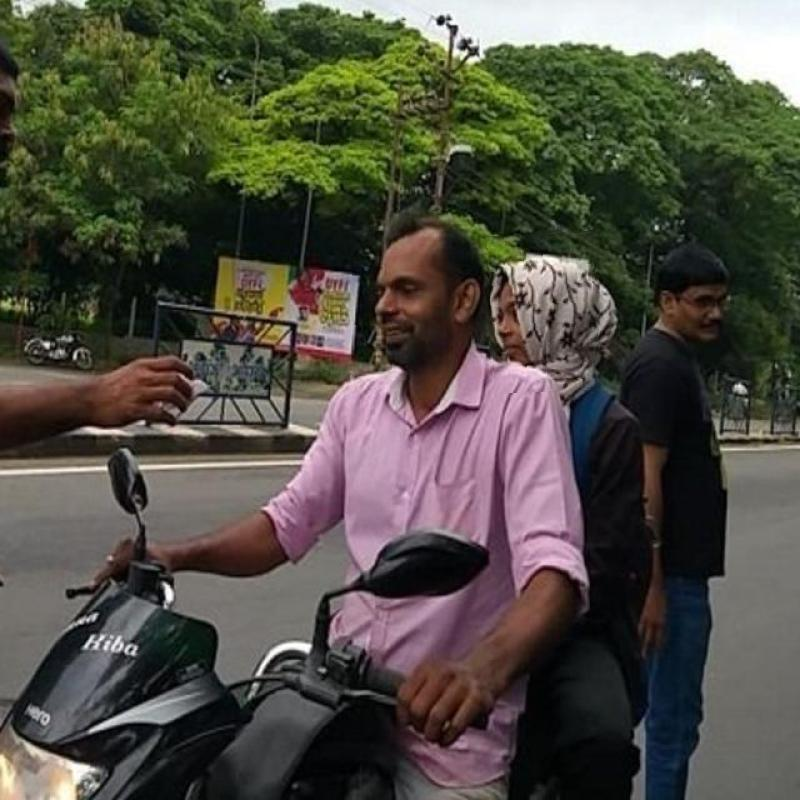nohelmet: (352, 210, 489, 380), (490, 232, 600, 394)
